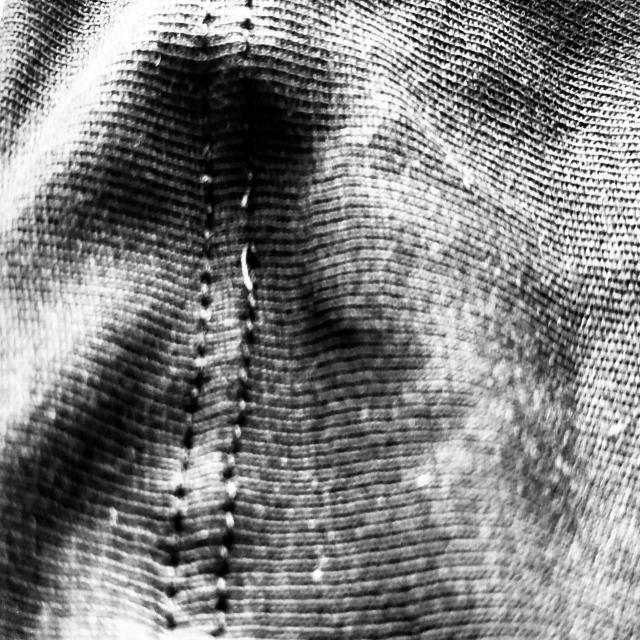Sewing_error: (218, 153, 282, 327)
